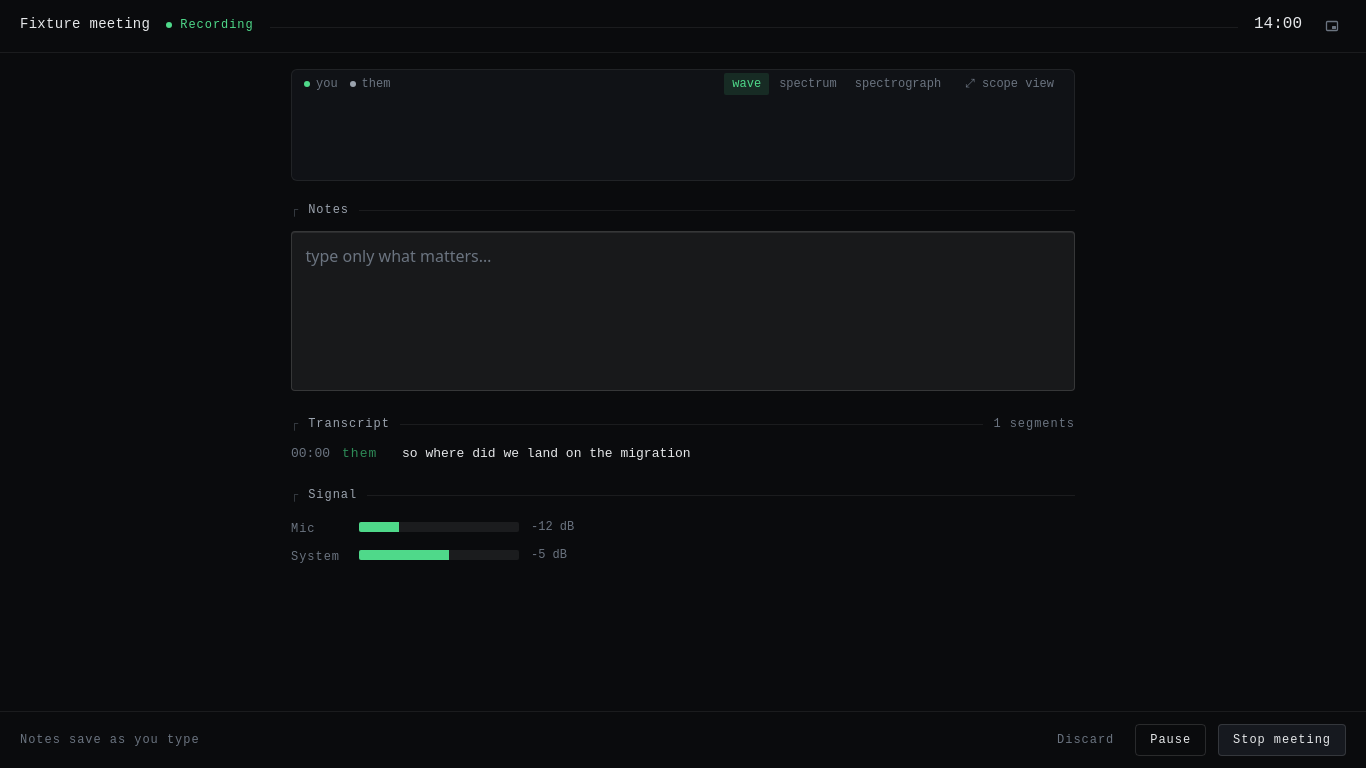
Test case: CaptureScreen pause › pauses and resumes, saying so each time
Click the button "Pause" at (1171, 740), box x1=1135 y1=724 x2=1206 y2=756
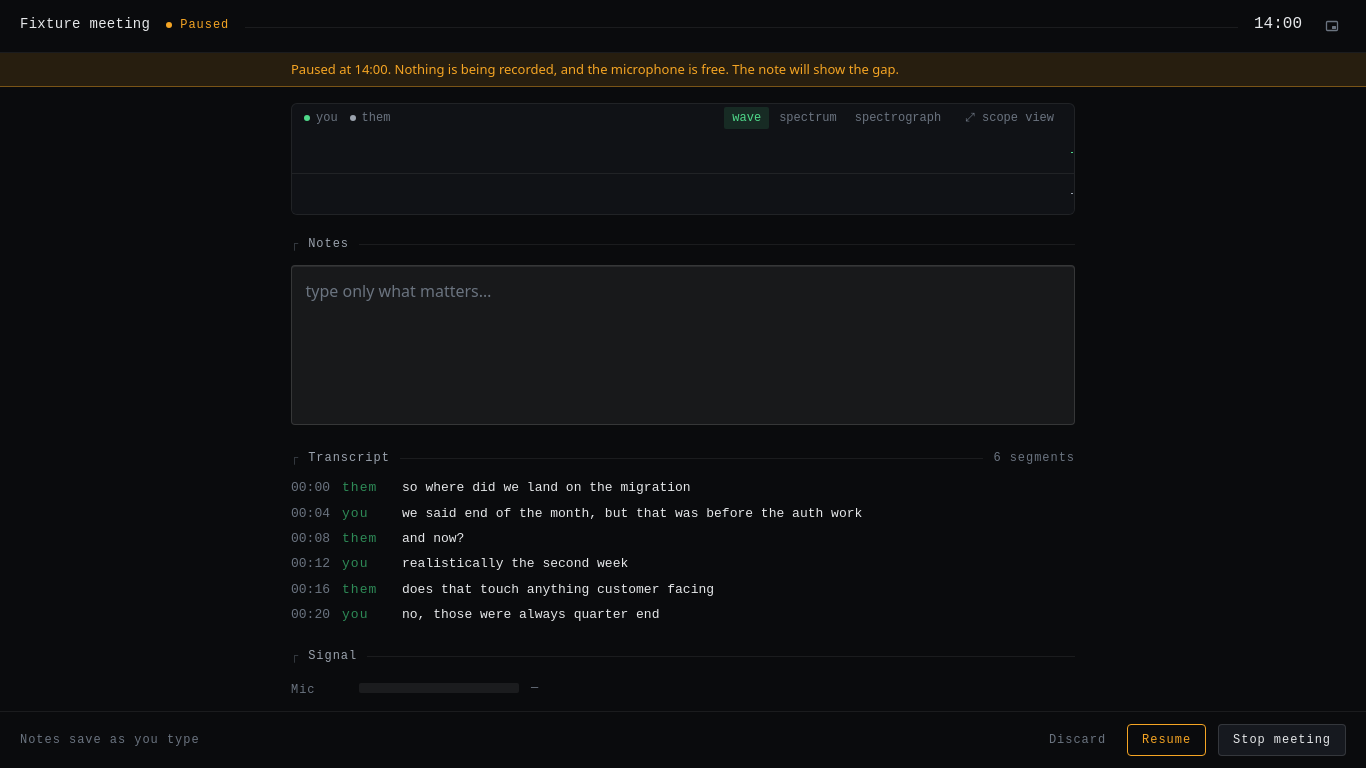
Now the text "Paused at" is shown, box x1=291 y1=60 x2=354 y2=78
Now the text "Paused" is shown, box x1=180 y1=16 x2=229 y2=34
Click the button "Resume" at (1167, 740), box x1=1127 y1=724 x2=1206 y2=756
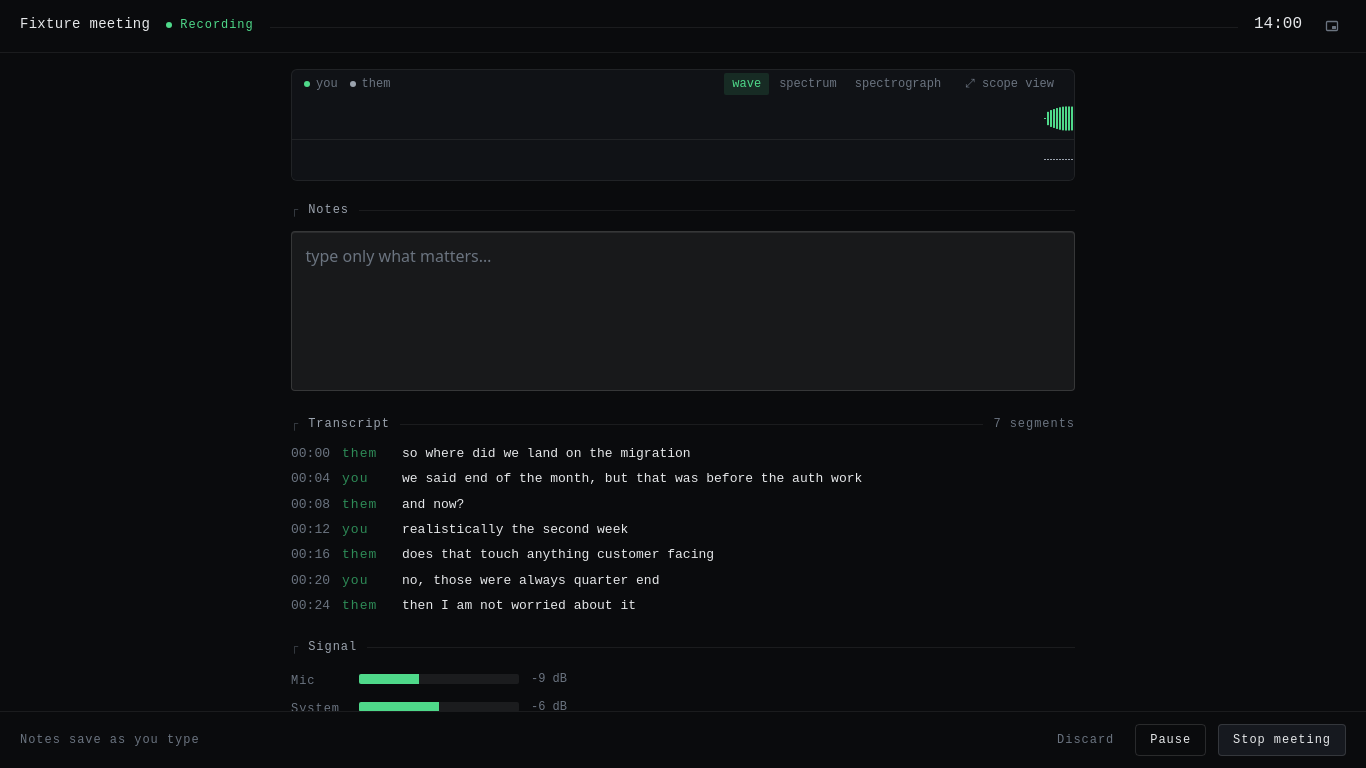
Now the text "Paused at" is gone
Now the button "Pause" is shown, box x1=1135 y1=724 x2=1206 y2=756
